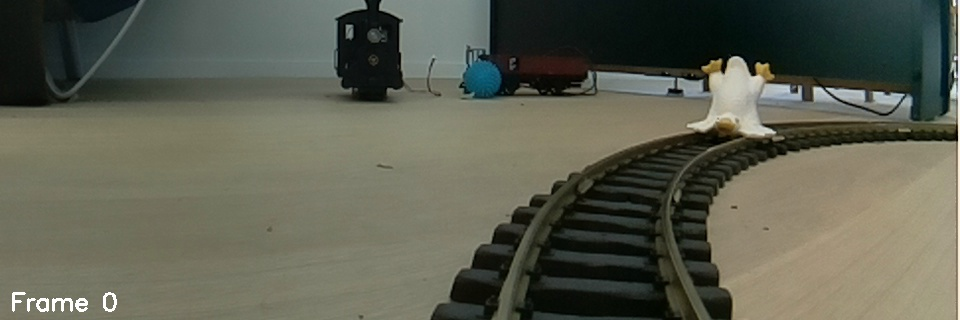Ente: (684, 49, 789, 150)
